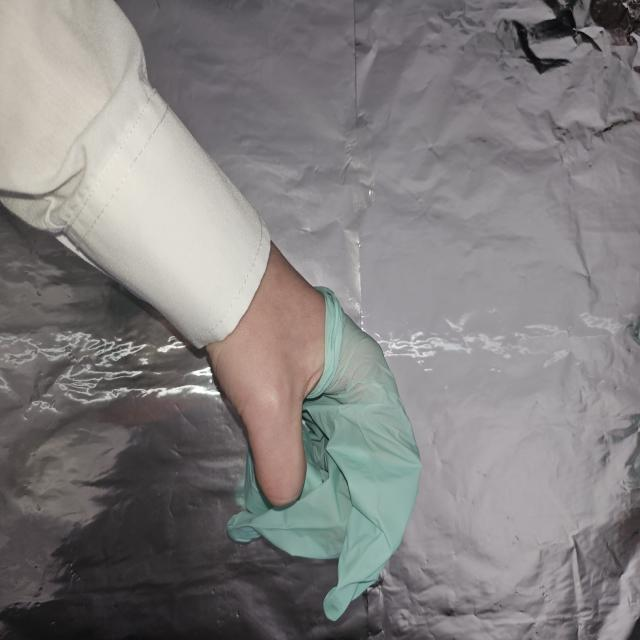glove_partial: (204, 240, 424, 622)
